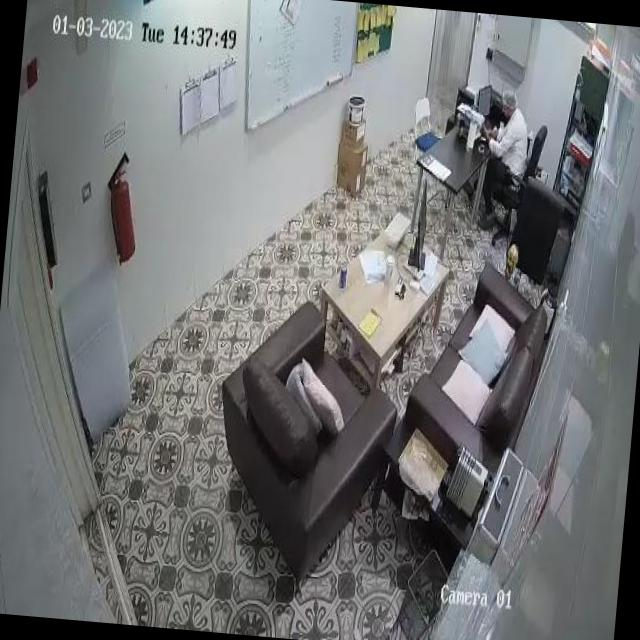hairnet: (499, 88, 518, 110)
